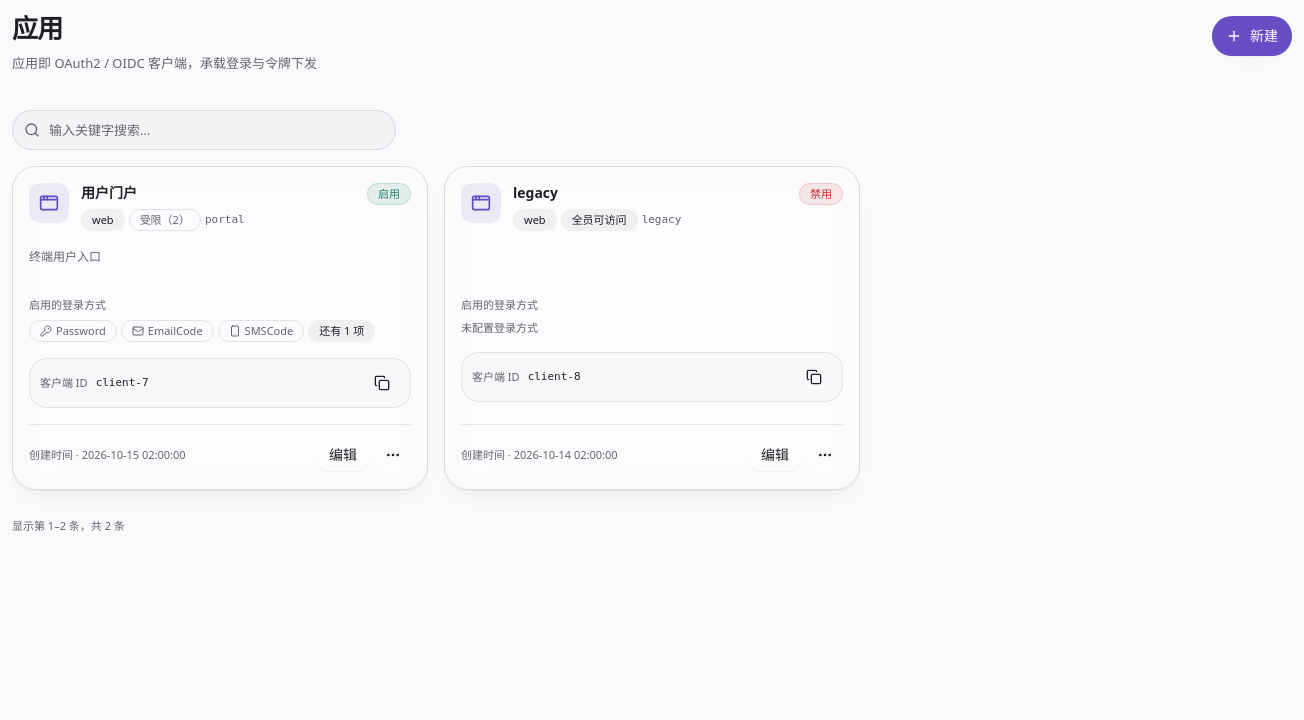
Test case: ApplicationsPage › 主操作编辑直达向导，端点 / 重置密钥 / 删除收进「更多」
This screenshot has width=1304, height=720.
Click the button named "操作" in the row of "2026-10-15 02:00:00".
click(393, 455)  # box [375, 437, 411, 473]
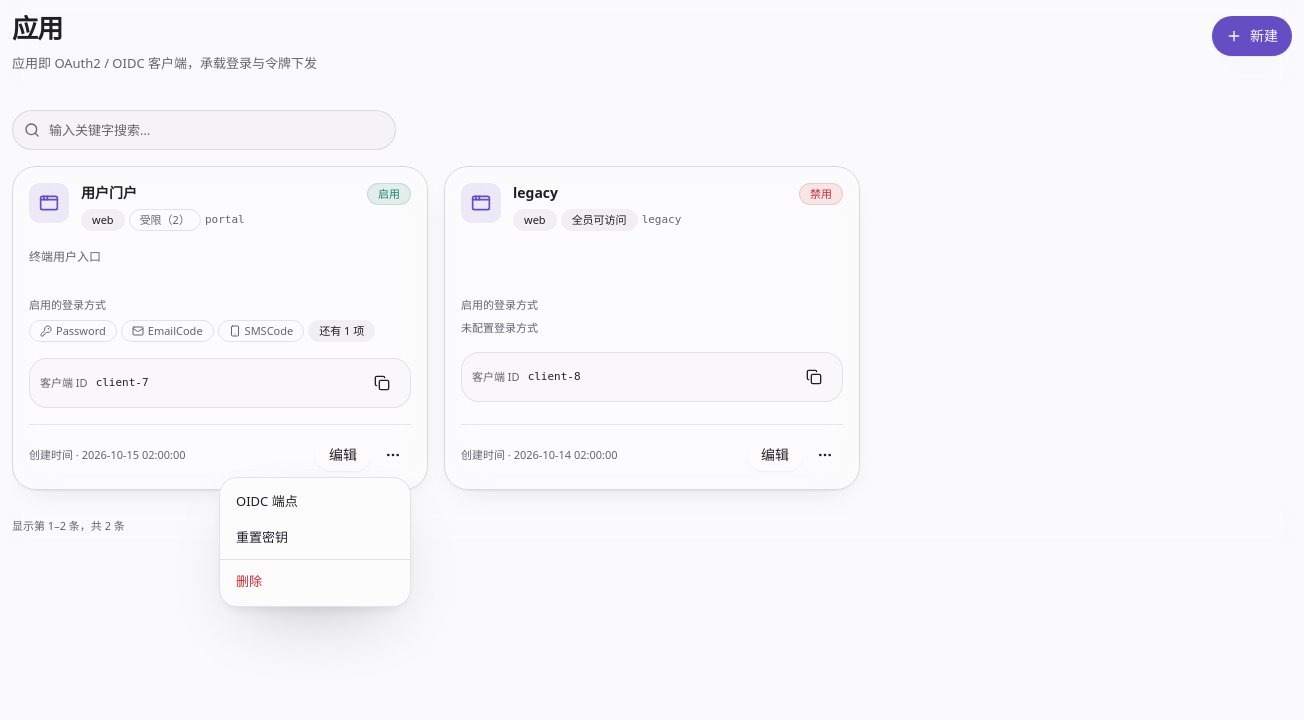
Check: the menu item "OIDC 端点" is shown, box [236, 492, 298, 510]
Check: the menu item "重置密钥" is shown, box [236, 528, 288, 546]
Check: the menu item "删除" is shown, box [236, 572, 262, 590]
